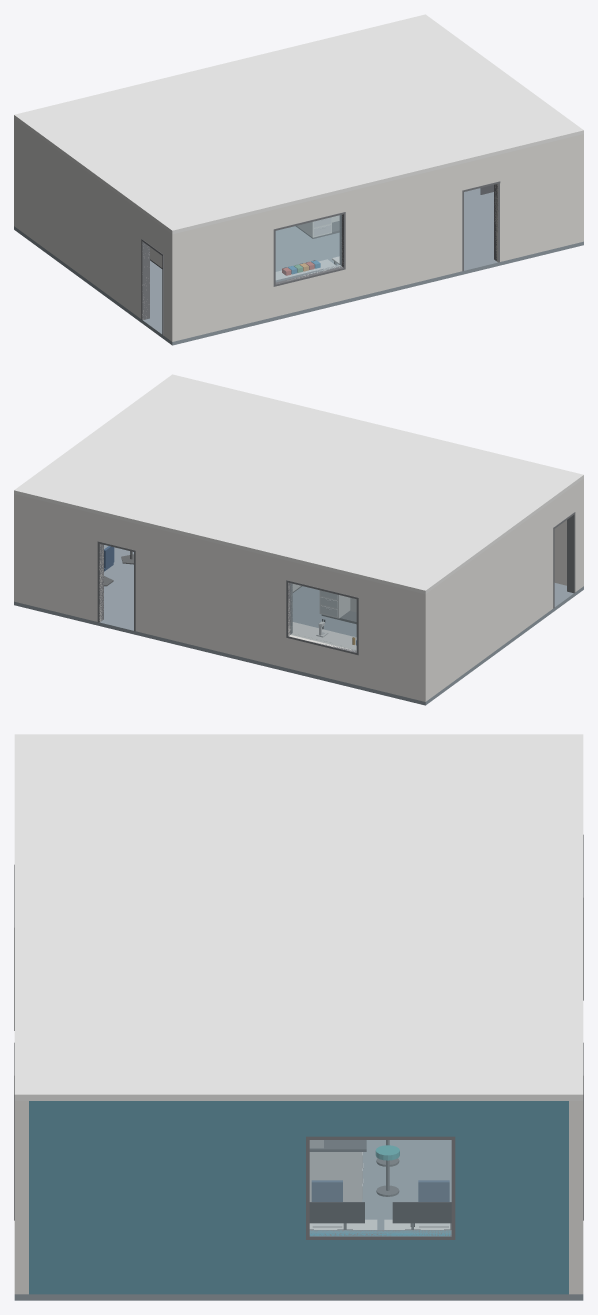
The picture shows the model from 3 angles, top to bottom: view 1: azimuth 30°, elevation 25°; view 2: azimuth 150°, elevation 25°; view 3: azimuth 270°, elevation 25°; orthographic projection. The views are drawn at different scales.
Parts seen in each view (by area): view 1: Ceiling, Wall_S, Wall_W, Floor, Frames_S, Frames_W, LabBench_B, Wall_N; view 2: Ceiling, Wall_N, Wall_W, Floor, Frames_N, Wall_S, LabBench_A, Frames_W; view 3: Ceiling, Wall_E, Frames_E, Floor, Wall_N, Wall_S, LabBench_B, Monitor_01_a, Monitor_02_b.
Part boxes in pixels (bbox=[...]): Ceiling: bbox=[14, 14, 583, 234]; Wall_S: bbox=[168, 134, 583, 341]; Wall_W: bbox=[18, 121, 168, 338]; Floor: bbox=[14, 188, 583, 345]; Frames_S: bbox=[273, 181, 500, 286]; Frames_W: bbox=[141, 239, 163, 335]; LabBench_B: bbox=[295, 215, 339, 238]; Wall_N: bbox=[14, 118, 17, 228]; Ceiling: bbox=[14, 374, 583, 594]; Wall_N: bbox=[14, 494, 429, 701]; Wall_W: bbox=[429, 481, 579, 698]; Floor: bbox=[14, 545, 583, 705]; Frames_N: bbox=[97, 541, 358, 655]; Wall_S: bbox=[554, 478, 583, 588]; LabBench_A: bbox=[319, 590, 356, 623]; Frames_W: bbox=[553, 512, 575, 608]; Ceiling: bbox=[14, 734, 583, 1100]; Wall_E: bbox=[29, 1101, 568, 1294]; Frames_E: bbox=[306, 1136, 455, 1239]; Floor: bbox=[14, 1140, 583, 1300]; Wall_N: bbox=[569, 1101, 583, 1294]; Wall_S: bbox=[14, 1101, 28, 1294]; LabBench_B: bbox=[309, 1140, 366, 1201]; Monitor_01_a: bbox=[325, 1202, 364, 1229]; Monitor_02_b: bbox=[392, 1202, 432, 1229].
Size of the model in its own units: 12.02 by 3.2 by 8.02.
